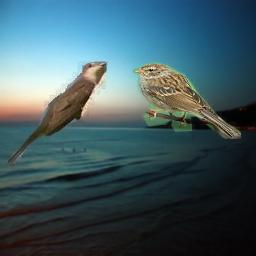Cuckoo: (6, 61, 108, 166)
Sparrow: (133, 62, 241, 139)
